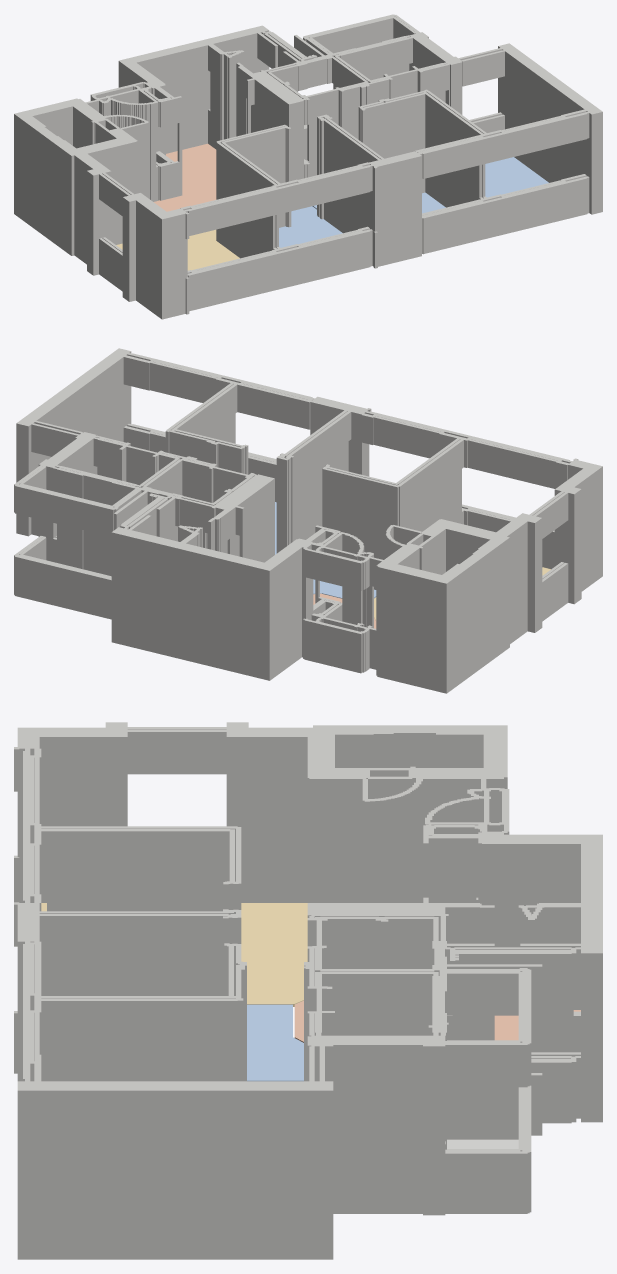
The picture shows the model from 3 angles, top to bottom: view 1: azimuth 30°, elevation 25°; view 2: azimuth 150°, elevation 25°; view 3: azimuth 270°, elevation 25°; orthographic projection. The views are drawn at different scales.
Parts seen in each view (by area): view 1: walls, room:kitchen:6, room:bedroom:9, room:bedroom:2, room:living:5; view 2: walls; view 3: walls, room:living:5, room:bedroom:2, room:kitchen:6, room:ledge:3.
Boxes of the visible parts, x1,y1,x2,y2 form: walls: (14, 14, 602, 319); room:kitchen:6: (154, 143, 216, 211); room:bedroom:9: (485, 157, 548, 197); room:bedroom:2: (279, 206, 342, 247); room:living:5: (116, 229, 239, 270); walls: (14, 348, 602, 693); walls: (14, 722, 602, 1259); room:living:5: (41, 903, 307, 1006); room:bedroom:2: (247, 1004, 303, 1081); room:kitchen:6: (294, 1000, 580, 1042); room:ledge:3: (447, 1139, 518, 1148).
Bounding box in the file's own units: 13.09 × 2.8 × 8.84.
